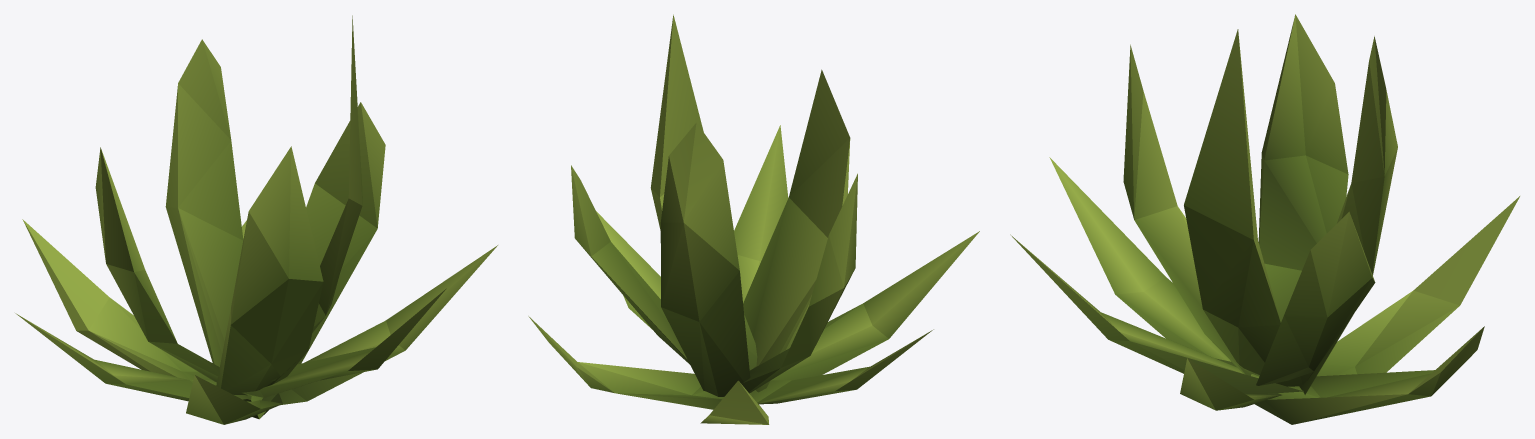
Rendered from Mixed_Plant_01.fbx.
The picture shows the model from 3 angles, left to right: view 1: azimuth 30°, elevation 25°; view 2: azimuth 150°, elevation 25°; view 3: azimuth 270°, elevation 25°; orthographic projection. The views are drawn at different scales.
Parts seen in each view (by area): view 1: Plant_01.001; view 2: Plant_01.001; view 3: Plant_01.001.
Part boxes in pixels (box(x1,y1,x2,y2)): Plant_01.001: box(15, 15, 497, 424); Plant_01.001: box(528, 14, 979, 424); Plant_01.001: box(1010, 14, 1519, 424).
Size of the model in its own units: 182 by 155 by 171.
